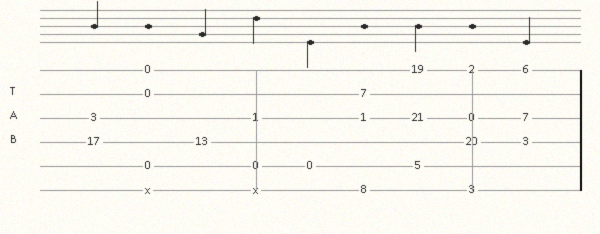0: (145, 88, 155, 100), (145, 160, 155, 172), (145, 64, 155, 76), (253, 160, 263, 172), (307, 160, 317, 172), (469, 112, 479, 124)
1: (253, 112, 263, 124), (361, 112, 371, 124)
13: (196, 136, 212, 148)
17: (88, 136, 104, 148)
19: (412, 64, 428, 76)
2: (469, 64, 479, 76)
20: (466, 136, 482, 148)
21: (412, 112, 428, 124)
3: (91, 112, 101, 124), (469, 184, 479, 196), (523, 136, 533, 148)
5: (415, 160, 425, 172)
6: (523, 64, 533, 76)
7: (361, 88, 371, 100), (523, 112, 533, 124)
8: (361, 184, 371, 196)
x: (145, 185, 154, 195), (253, 185, 262, 195)
